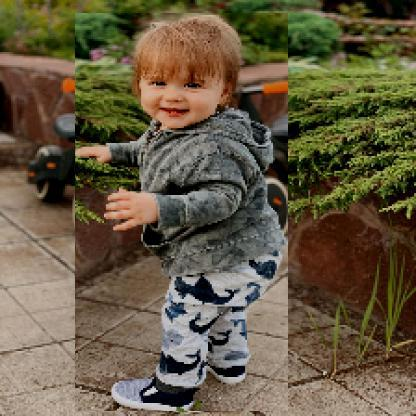child: (76, 14, 290, 413)
